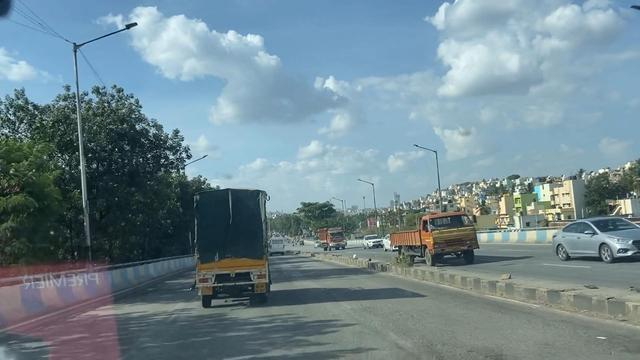HMV: (185, 183, 270, 312)
